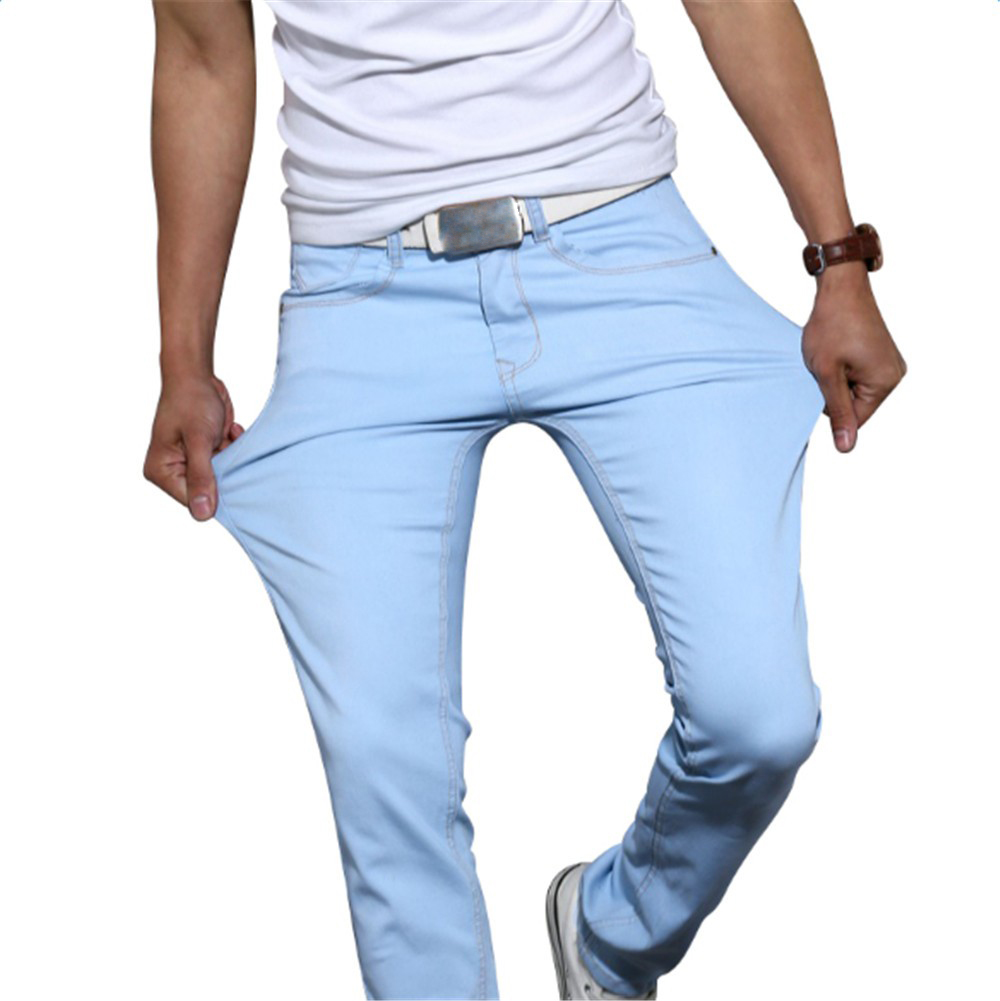jeans: (210, 223, 836, 1000)
